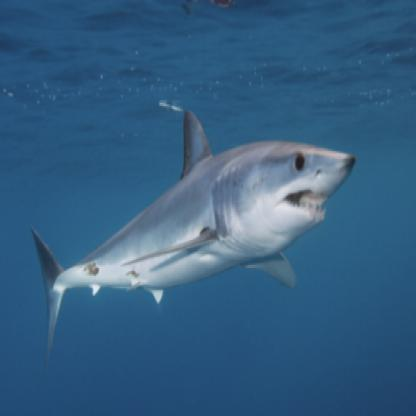Shark -Selachimorpha-: (13, 99, 362, 364)
